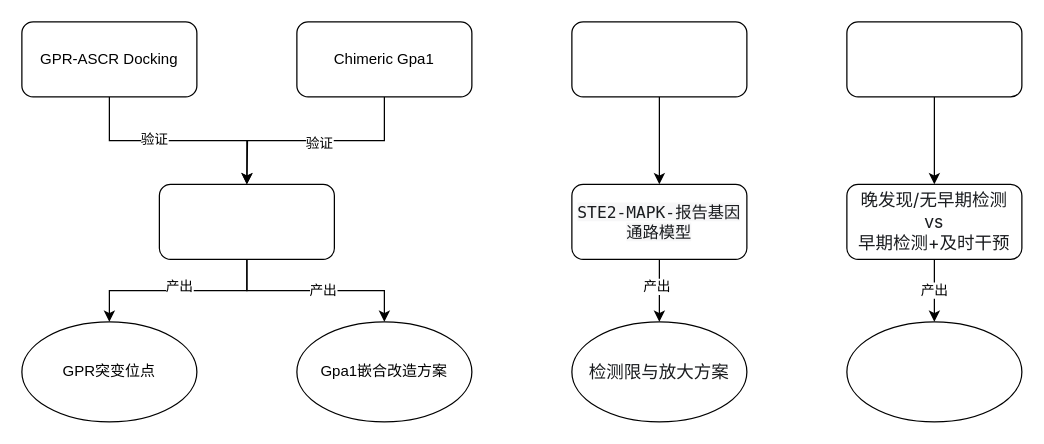
This 1044x444 diagram has some shape labels left out. Here are the shapes that lost their labels. From the top down, the box of each, then its label:
(571, 21, 747, 97): 信号通路ODE/ 显色接口建模
(846, 21, 1022, 97): 经济效益建模
(158, 183, 334, 259): Molecular Dynamics 分子动力学模拟
(846, 321, 1022, 422): ROI 与部署阈值
